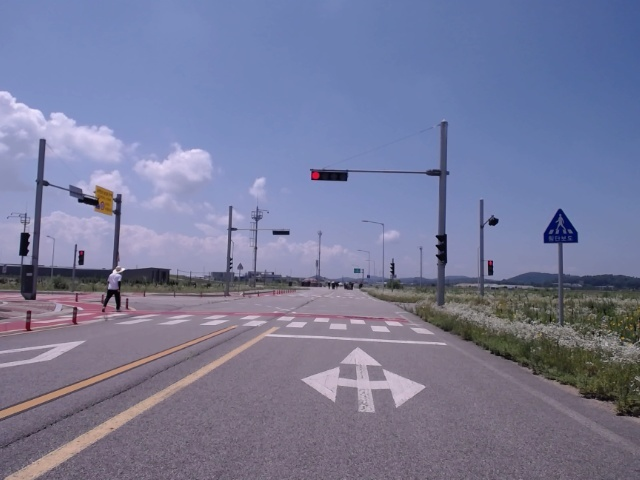red_4: (311, 171, 348, 181)
